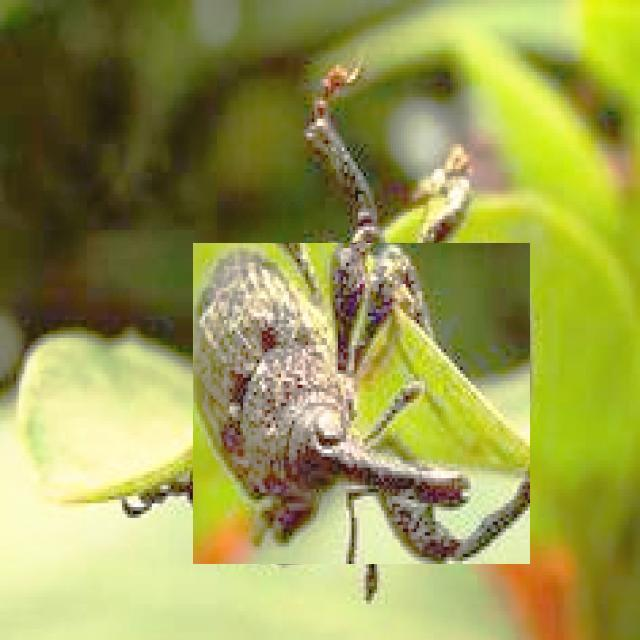rice-bug: (193, 243, 530, 564)
